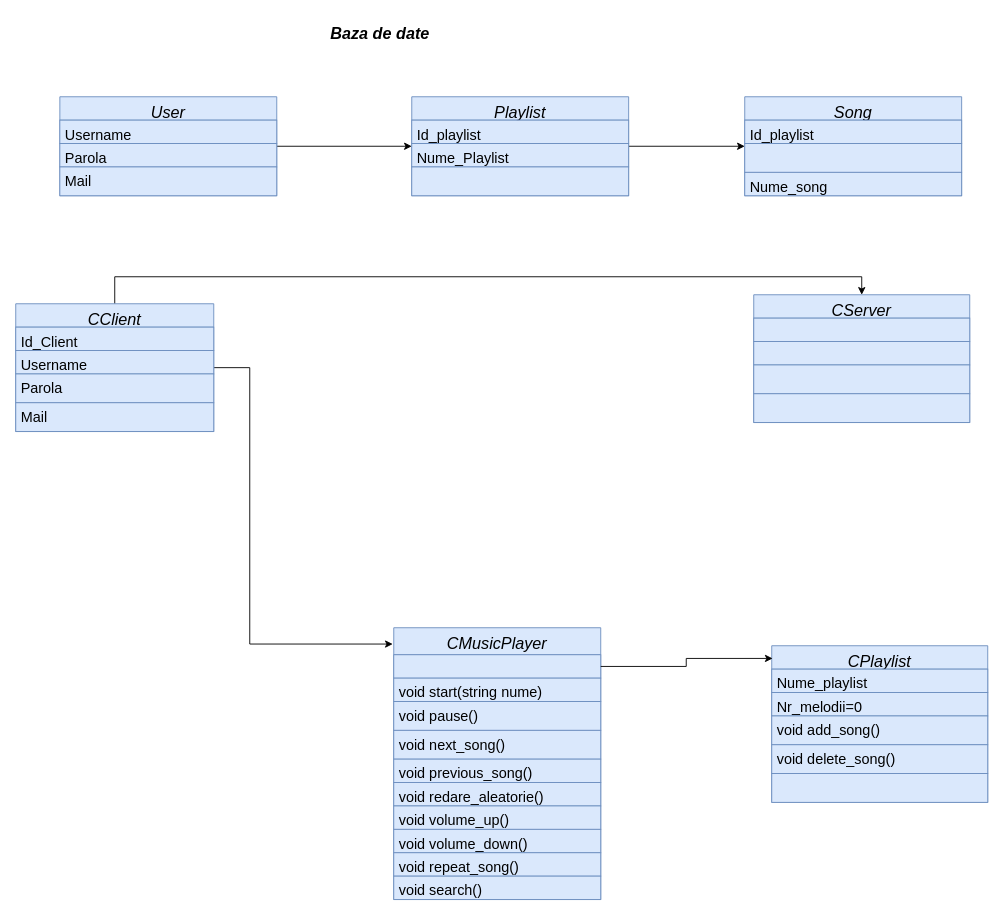
Some shapes in this 1004 by 917 pixel diagram are drawn without their labels. Here are the shapes that lost their labels. From the top down, the centre of each, then its label:
At point (853, 157): "Id_song".
At point (520, 181): "Nr_melodii".
At point (497, 666): "void create_Playlist(Playlist list)".
